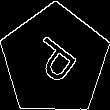P_SE: (25, 31, 85, 90)
